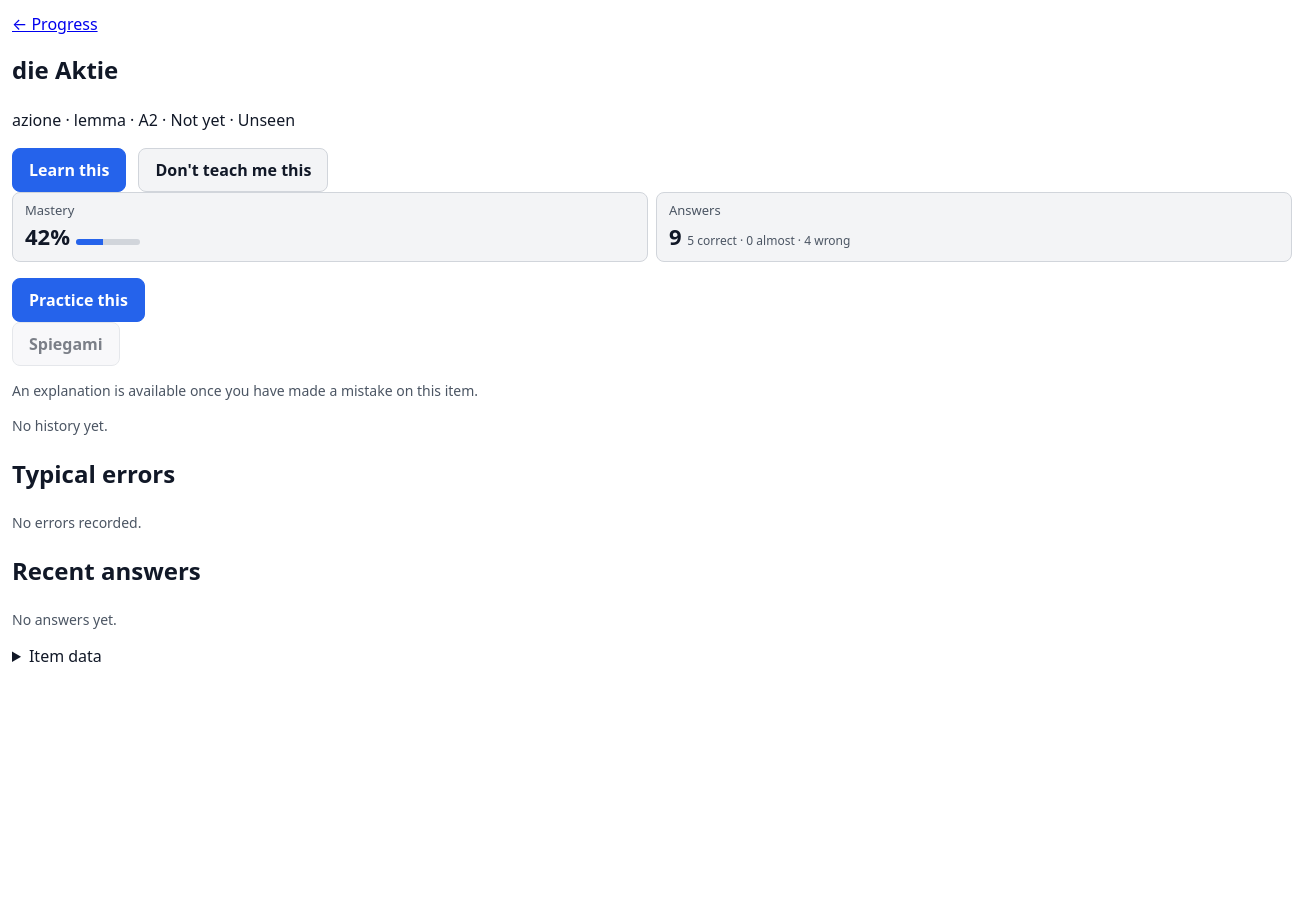
opt-in / opt-out › opts an unseen item out, then back in
The image size is (1292, 912).
Click the button "Don't teach me this": x=233, y=170 138,148 -> 328,192
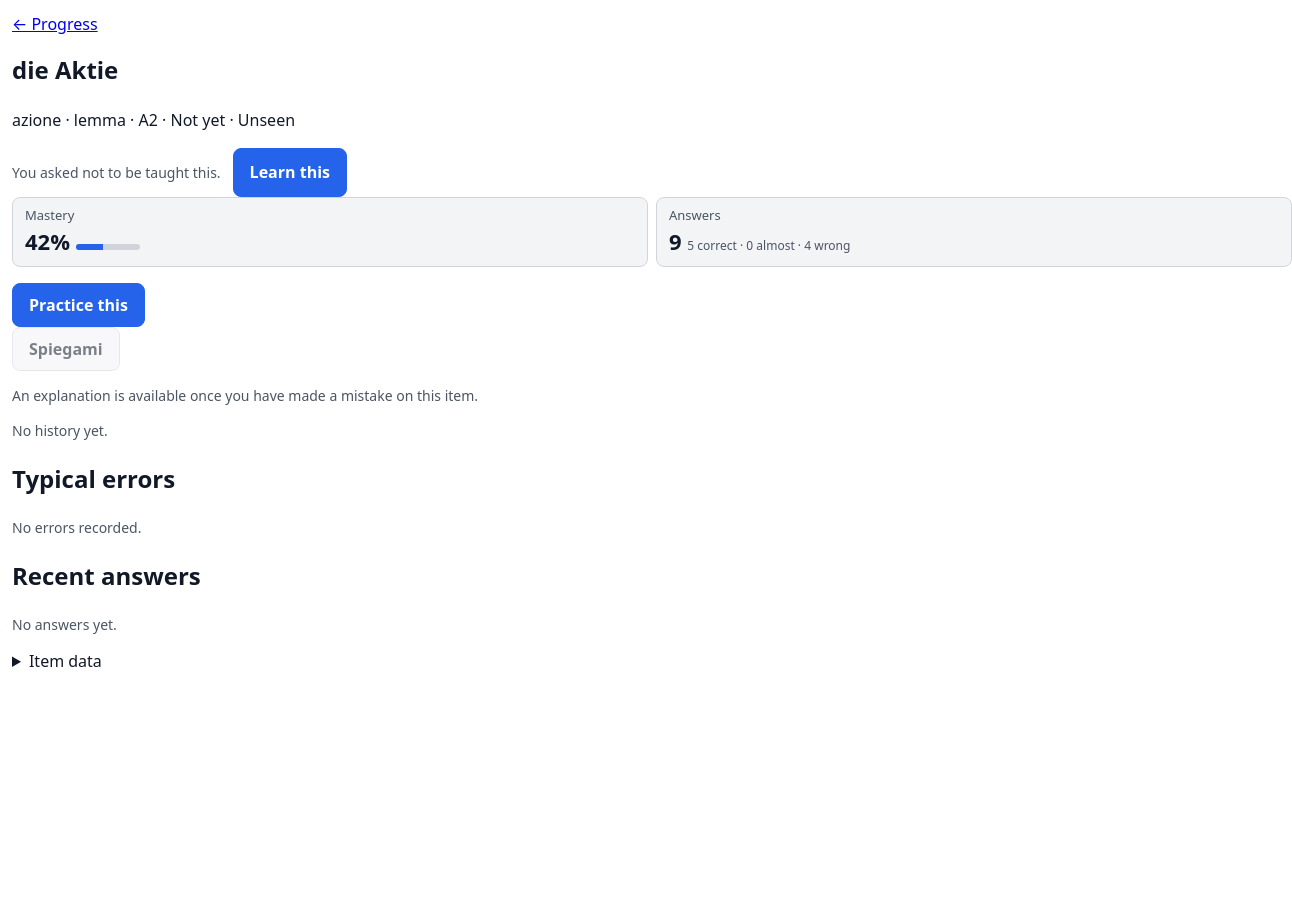
Check: the text "You asked not to be taught this." is shown, box 12,162 -> 221,183
Check: the button "Don't teach me this" is gone
Click the button "Learn this": x=290, y=172 233,148 -> 347,197
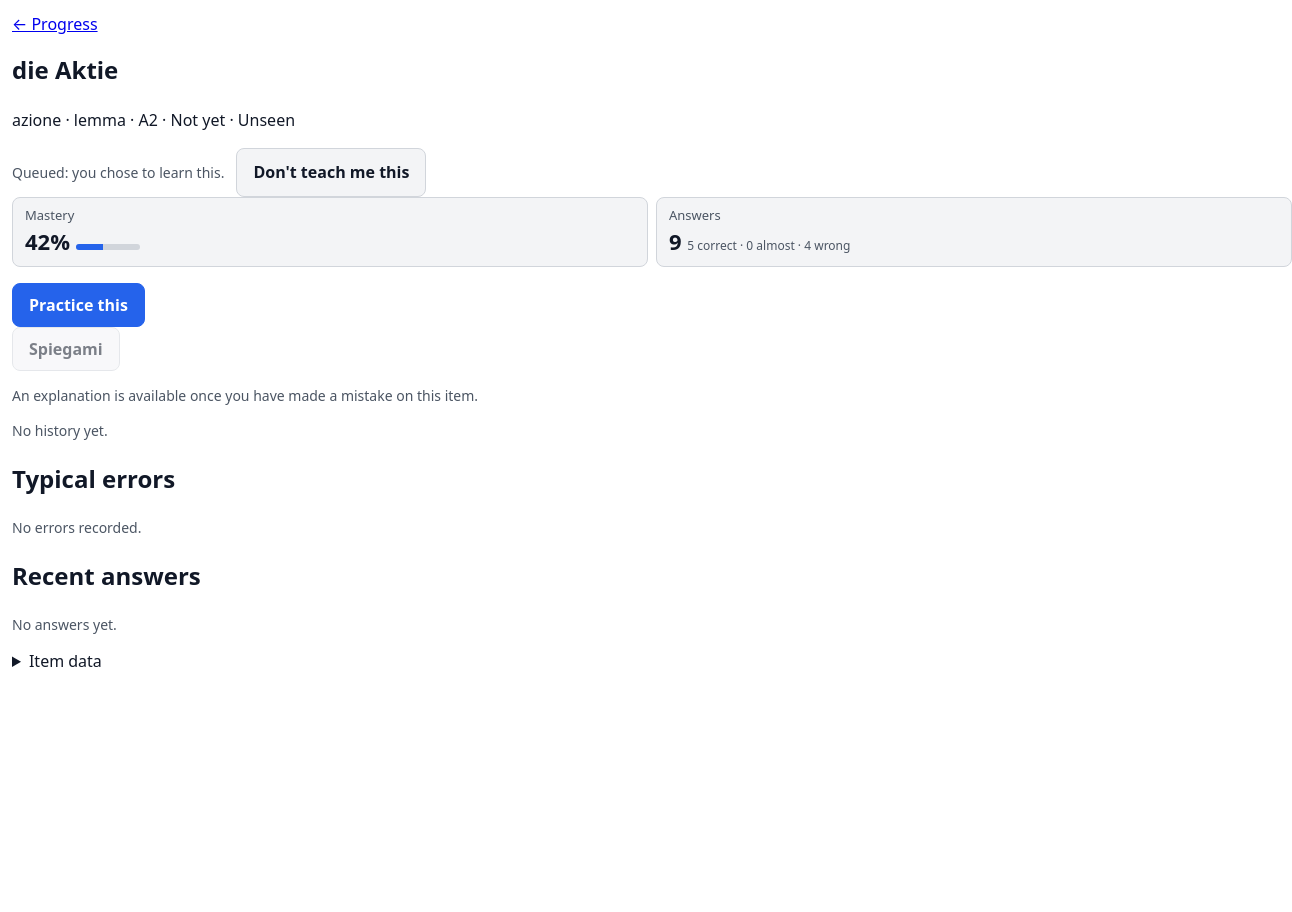
Check: the text "Queued: you chose to learn this." is shown, box 12,162 -> 224,183
Check: the button "Don't teach me this" is shown, box 236,148 -> 426,197
